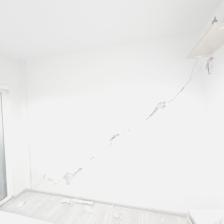High: (25, 58, 212, 194)
